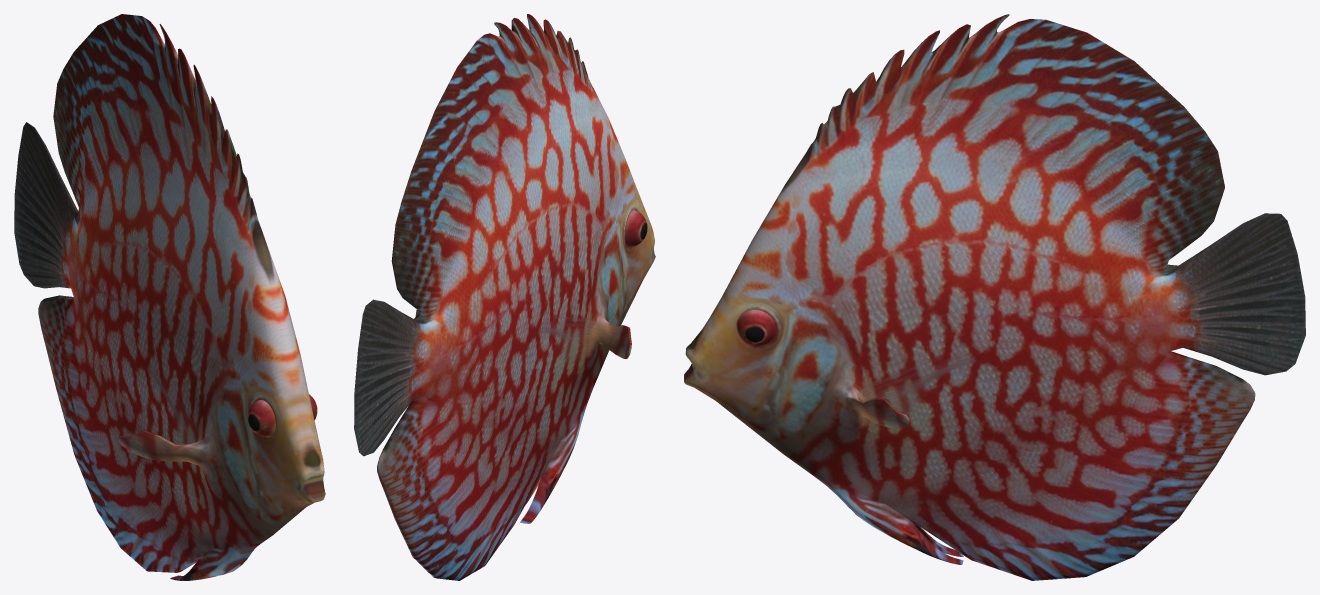
The model's file is DiscusFish.fbx.
3 views of the same model, side by side, from view 1: azimuth 30°, elevation 25°; view 2: azimuth 150°, elevation 25°; view 3: azimuth 270°, elevation 25° (orthographic). The views are drawn at different scales.
Visible parts, largest first — view 1: Discus_Final; view 2: Discus_Final; view 3: Discus_Final.
Part boxes in pixels (left/top/right/bottom): Discus_Final: left=14, top=14, right=325, bottom=580; Discus_Final: left=354, top=14, right=655, bottom=580; Discus_Final: left=684, top=14, right=1305, bottom=580.
Bounding box in the file's own units: 17.84 × 53.2 × 52.97.
Materials: 1 (1 with a texture image).
